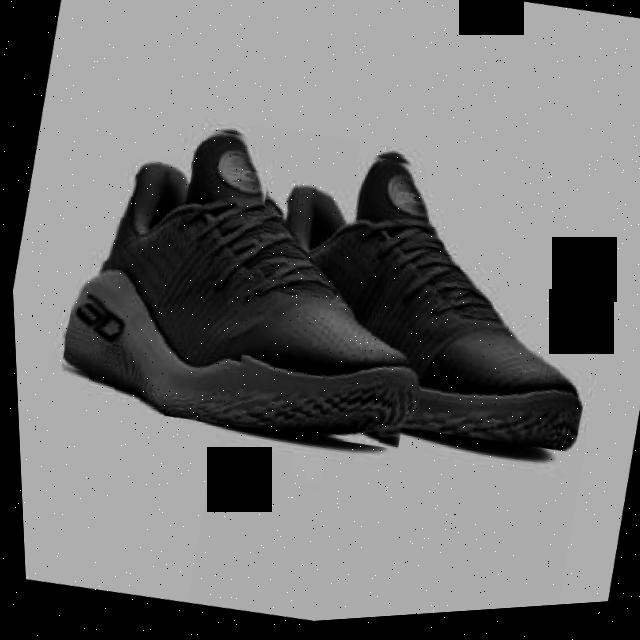shoe: (42, 93, 465, 475), (218, 123, 626, 478)
